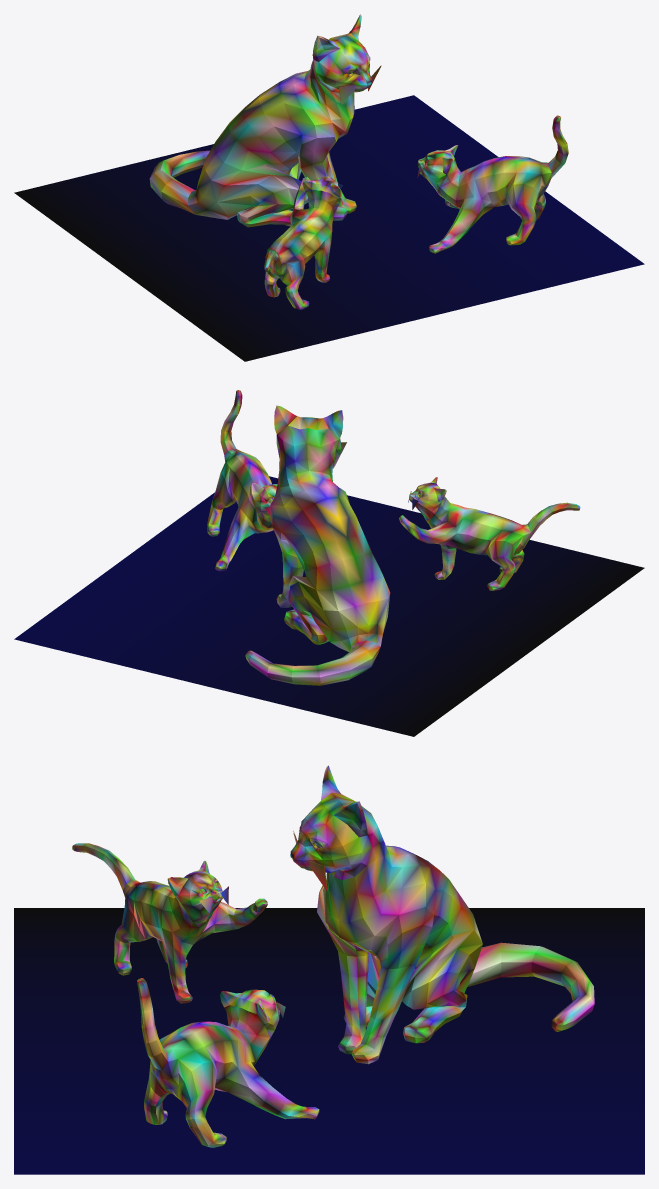
Rendered from cat.fbx.
3 views of the same model, one above another, from view 1: azimuth 30°, elevation 25°; view 2: azimuth 150°, elevation 25°; view 3: azimuth 270°, elevation 25° (orthographic). The views are drawn at different scales.
Parts seen in each view (by area): view 1: Cube_Material_0, Cube_Material.002_0, Cube_Material.001_0, Cube_Material.003_0; view 2: Cube_Material_0, Cube_Material.002_0, Cube_Material.003_0, Cube_Material.001_0; view 3: Cube_Material_0, Cube_Material.002_0, Cube_Material.001_0, Cube_Material.003_0.
Part boxes in pixels (x1,y1,x2,y2): Cube_Material_0: [14, 95, 644, 361]; Cube_Material.002_0: [149, 14, 381, 227]; Cube_Material.001_0: [417, 115, 568, 253]; Cube_Material.003_0: [264, 176, 342, 309]; Cube_Material_0: [14, 476, 644, 736]; Cube_Material.002_0: [245, 405, 390, 685]; Cube_Material.003_0: [399, 477, 580, 590]; Cube_Material.001_0: [207, 390, 277, 571]; Cube_Material_0: [14, 908, 644, 1174]; Cube_Material.002_0: [290, 765, 594, 1064]; Cube_Material.001_0: [137, 978, 319, 1147]; Cube_Material.003_0: [72, 843, 267, 1003].
Bounding box in the file's own units: 80 × 37.54 × 80.
